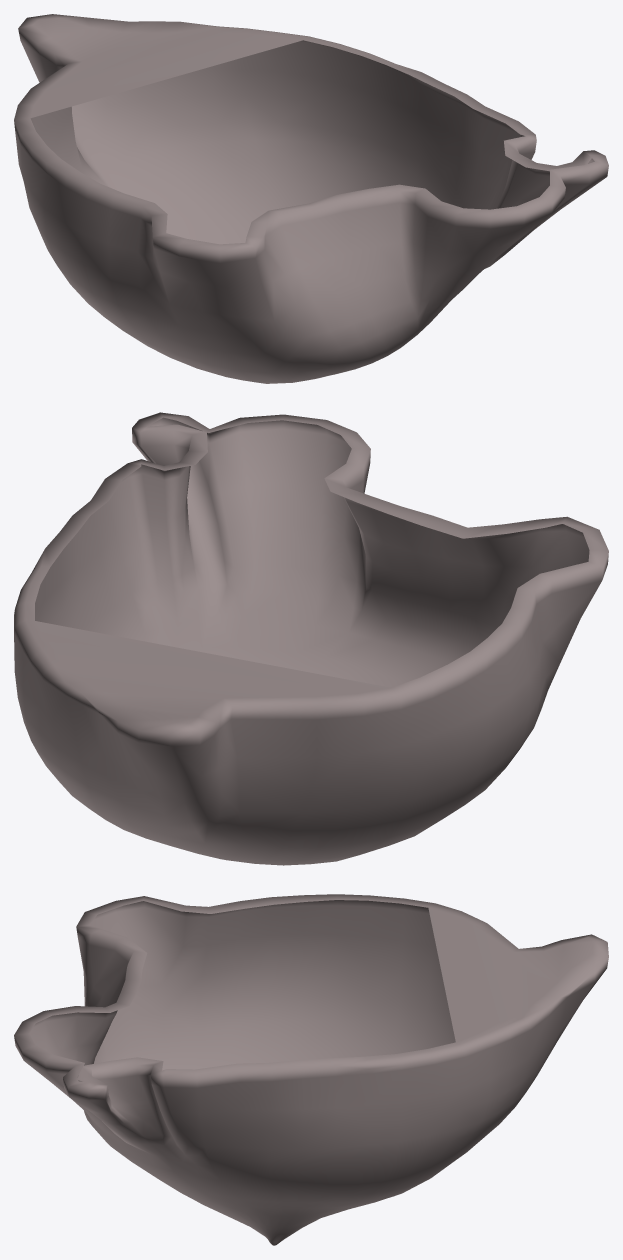
Rendered from Mesh_Home_RF_Gound_04_SM.fbx.
The picture shows the model from 3 angles, top to bottom: view 1: azimuth 30°, elevation 25°; view 2: azimuth 150°, elevation 25°; view 3: azimuth 270°, elevation 25°; orthographic projection. The views are drawn at different scales.
Visible parts, largest first — view 1: Mesh_Home_RF_Gound_04; view 2: Mesh_Home_RF_Gound_04; view 3: Mesh_Home_RF_Gound_04.
Part boxes in pixels (x1=…): Mesh_Home_RF_Gound_04: x1=14, y1=14, x2=608, y2=383; Mesh_Home_RF_Gound_04: x1=14, y1=412, x2=608, y2=865; Mesh_Home_RF_Gound_04: x1=14, y1=894, x2=608, y2=1245.
Size of the model in its own units: 6152 by 3366 by 7836.
1 material, 1 textured.
